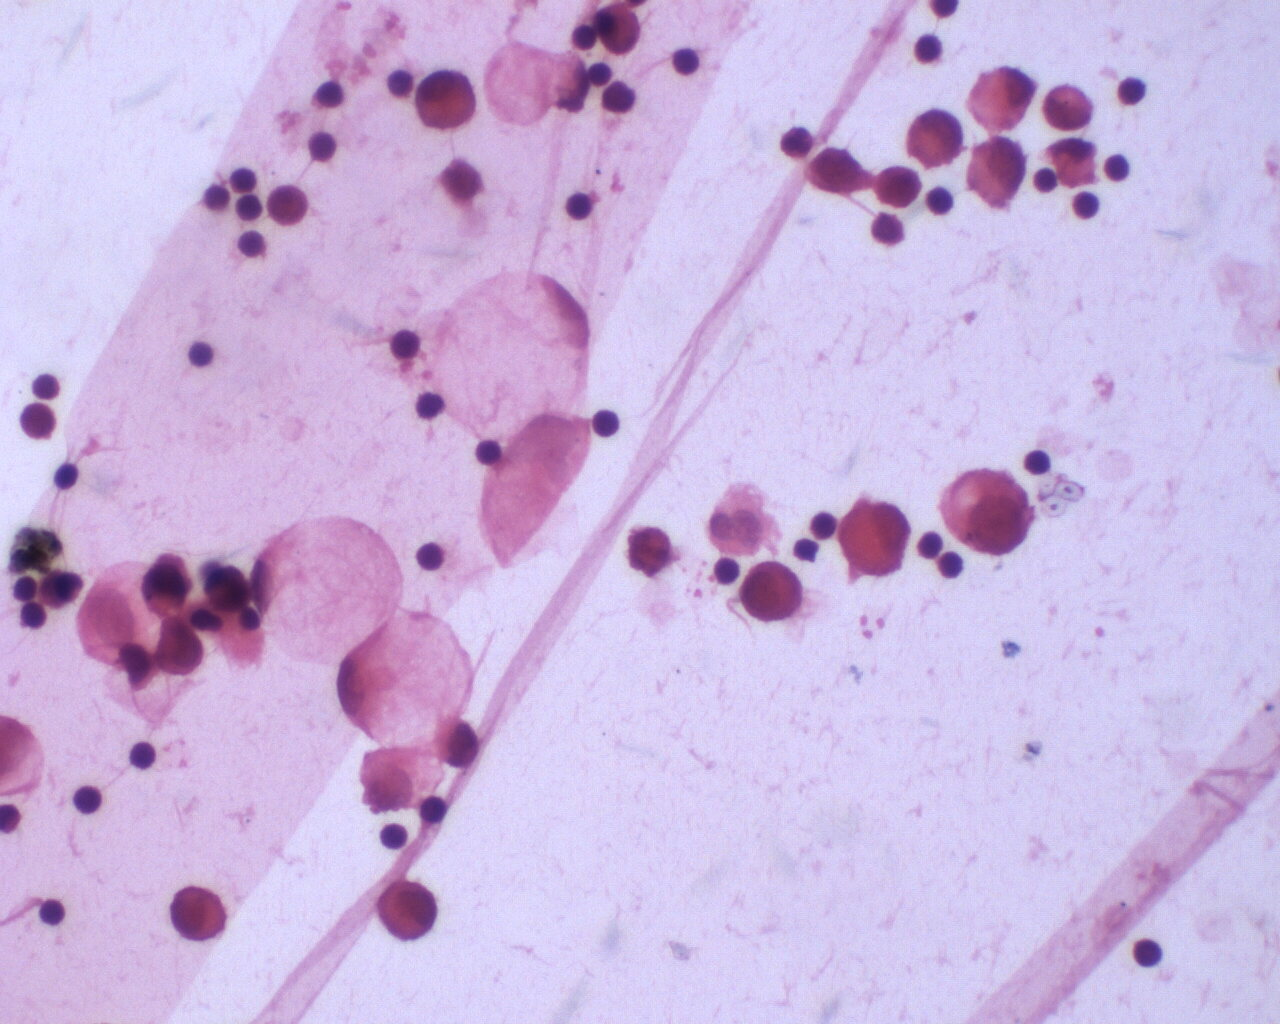ab: (835, 493, 913, 588), (961, 135, 1027, 211), (369, 875, 444, 938), (801, 143, 875, 200), (149, 614, 209, 678)
histo: (430, 267, 594, 434), (250, 513, 409, 670), (334, 612, 479, 757)
lymph: (1128, 932, 1176, 976), (583, 400, 626, 445), (908, 28, 950, 73), (385, 326, 430, 366), (558, 183, 599, 227), (1065, 186, 1104, 227), (410, 533, 448, 574), (408, 389, 450, 425), (234, 226, 277, 262), (121, 734, 161, 772), (1111, 65, 1146, 108), (666, 40, 703, 79), (67, 783, 107, 817), (183, 338, 216, 378), (376, 817, 412, 853), (1021, 445, 1057, 480), (474, 432, 506, 469), (39, 892, 70, 928)
meso: (927, 463, 1034, 561), (739, 555, 810, 629), (413, 70, 487, 137), (166, 878, 235, 948)
